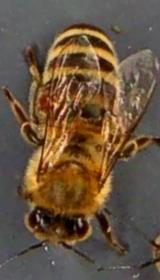varroa_mite: (29, 80, 60, 116)
